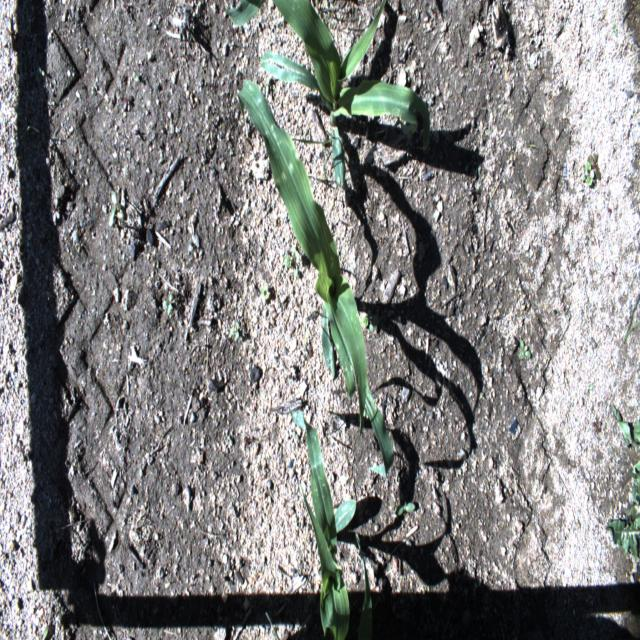crop: (233, 75, 398, 482), (221, 0, 432, 188), (274, 402, 374, 637)
weed: (603, 455, 638, 572), (610, 400, 638, 452), (106, 177, 128, 235), (577, 147, 605, 192), (176, 6, 202, 52), (316, 2, 347, 33), (282, 243, 302, 286), (0, 9, 17, 56), (516, 329, 535, 368), (158, 280, 178, 315), (396, 490, 418, 520), (22, 114, 44, 144), (261, 606, 281, 637), (227, 318, 248, 346), (364, 306, 381, 335), (50, 189, 62, 228), (31, 619, 55, 638), (15, 438, 30, 468), (120, 86, 136, 113), (606, 19, 622, 46), (588, 413, 606, 436), (32, 61, 48, 82), (260, 282, 273, 306)
